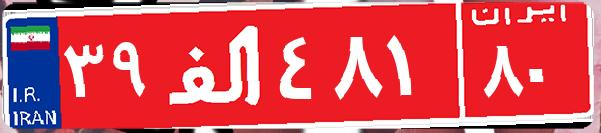0: (525, 38, 570, 115)
1: (385, 28, 445, 110)
3: (57, 26, 110, 107)
4: (273, 28, 330, 110)
8: (330, 28, 385, 110), (475, 38, 525, 113)
9: (110, 28, 158, 105)
الف: (158, 15, 273, 115)
